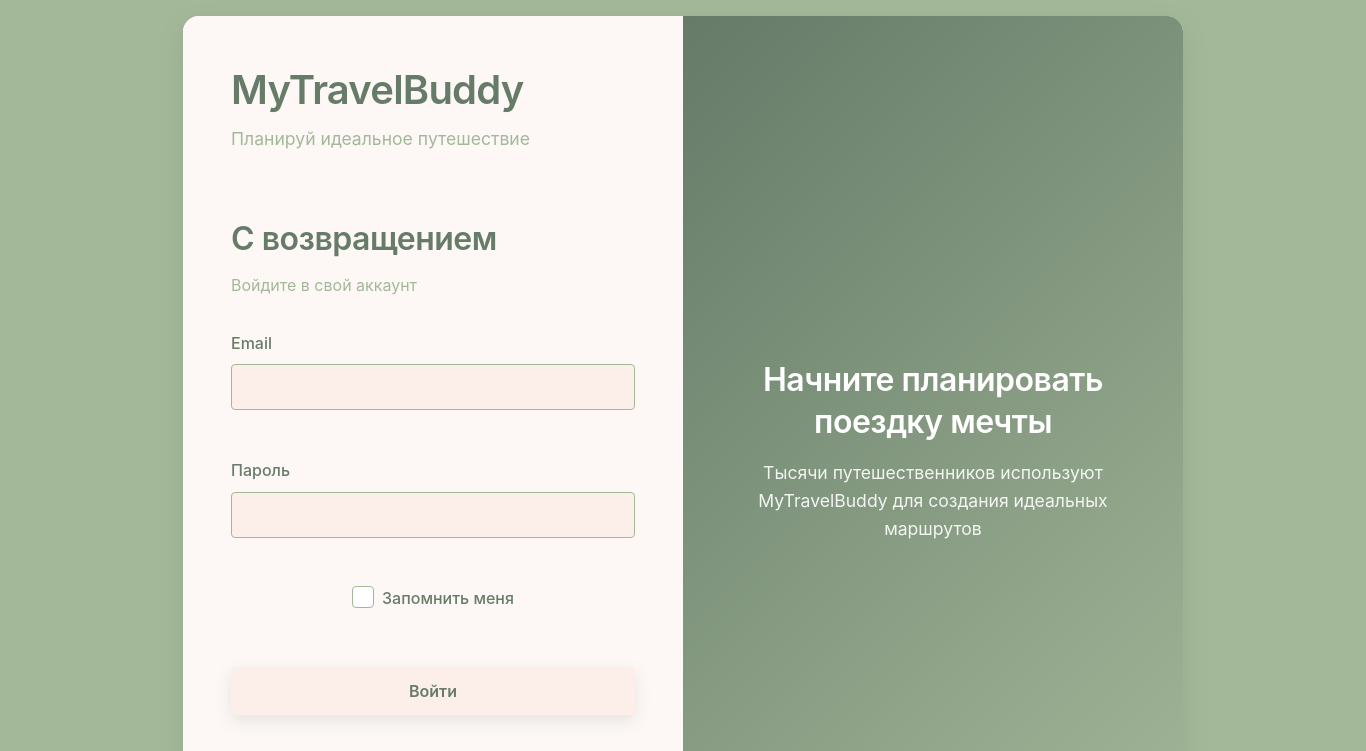
Test case: LoginPage › disables submit button while submitting
This screenshot has width=1366, height=751.
Type "test@test.com" into the field labelled "Email" at {"x": 433, "y": 387}, box [231,364,635,410]
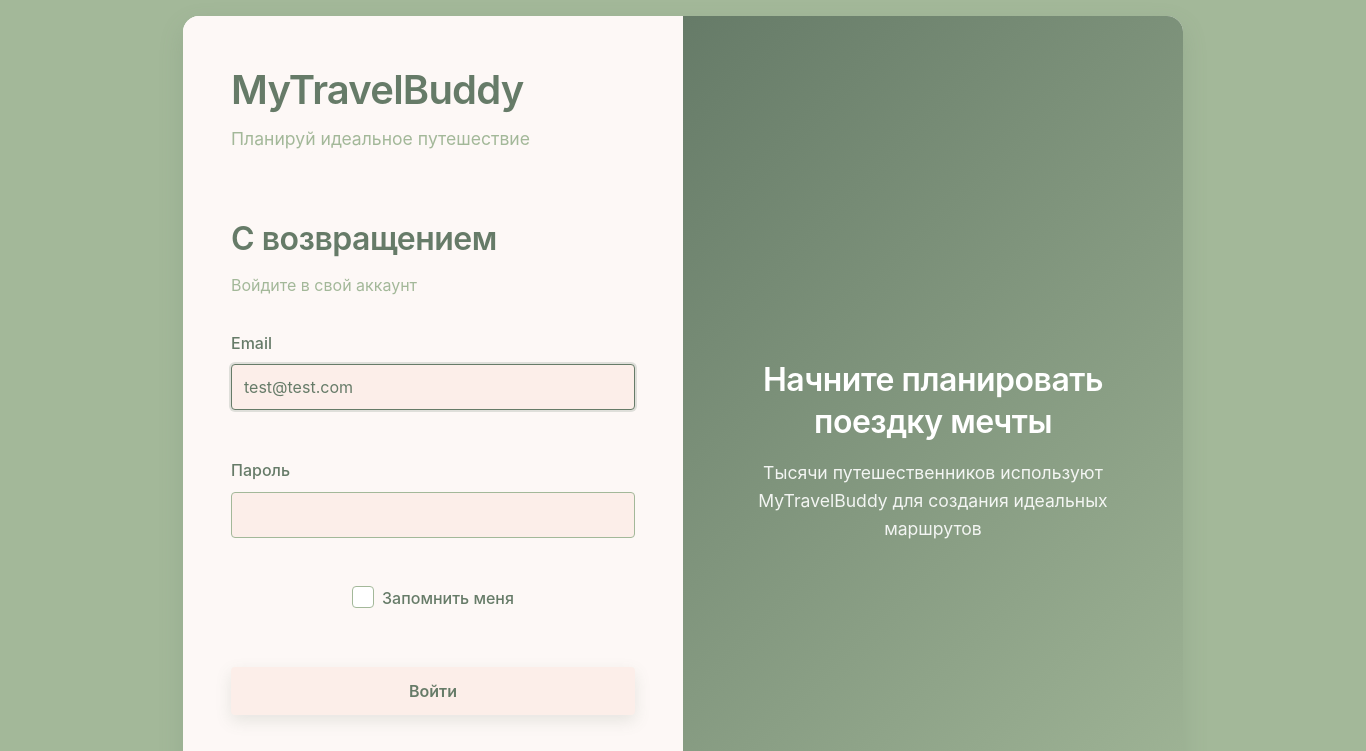
Type "password" into the password field labelled "Пароль" at {"x": 433, "y": 515}, box [231,492,635,538]
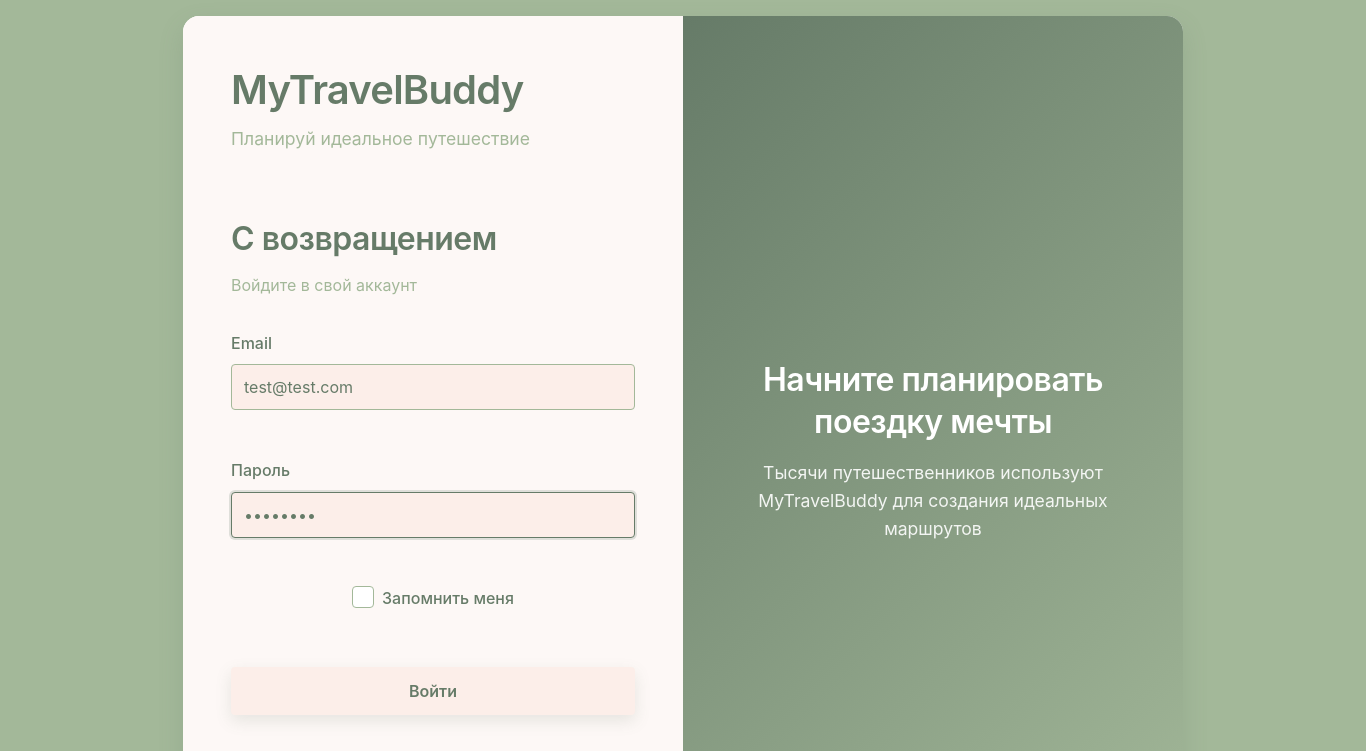
Click the button "Войти" at {"x": 433, "y": 692}, box [231,668,635,716]
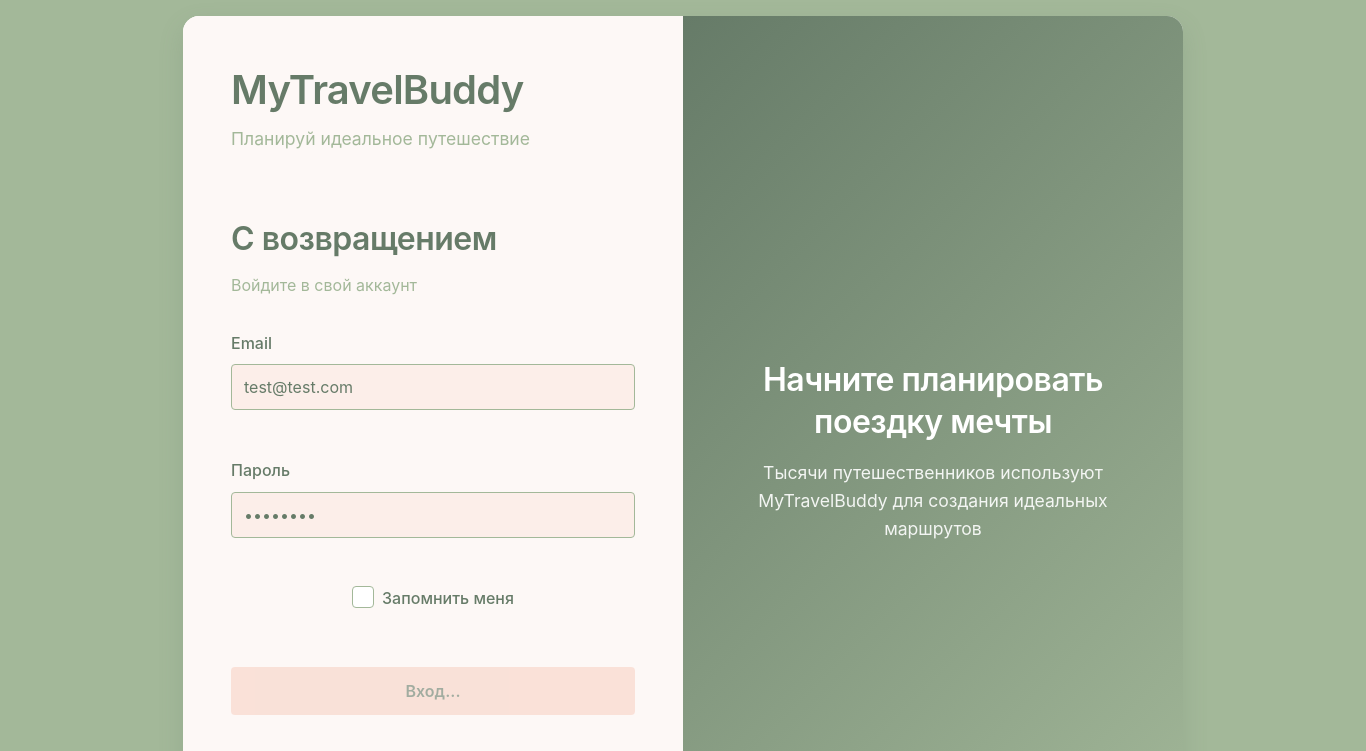
Check: the button "Вход..." is disabled, box [231,668,635,716]
